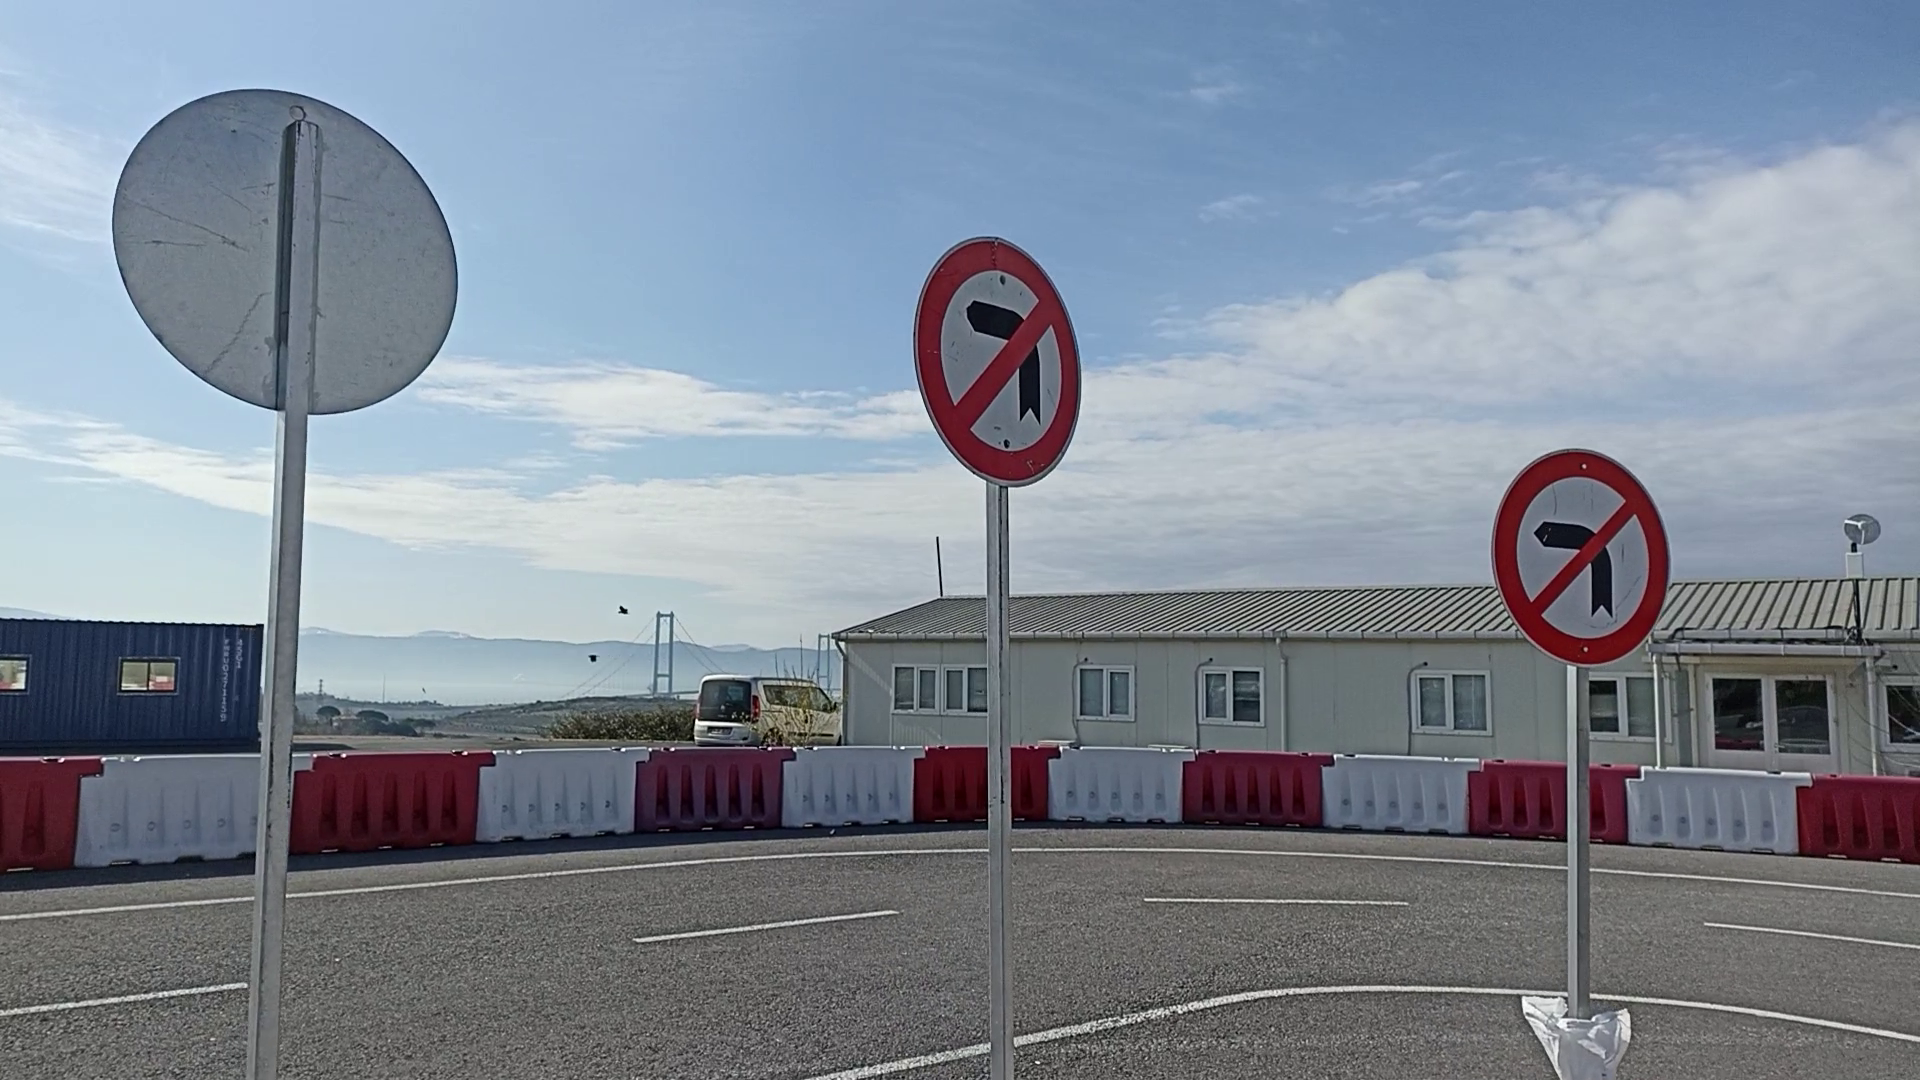noleft: (906, 229, 1085, 488), (1489, 444, 1673, 673)
